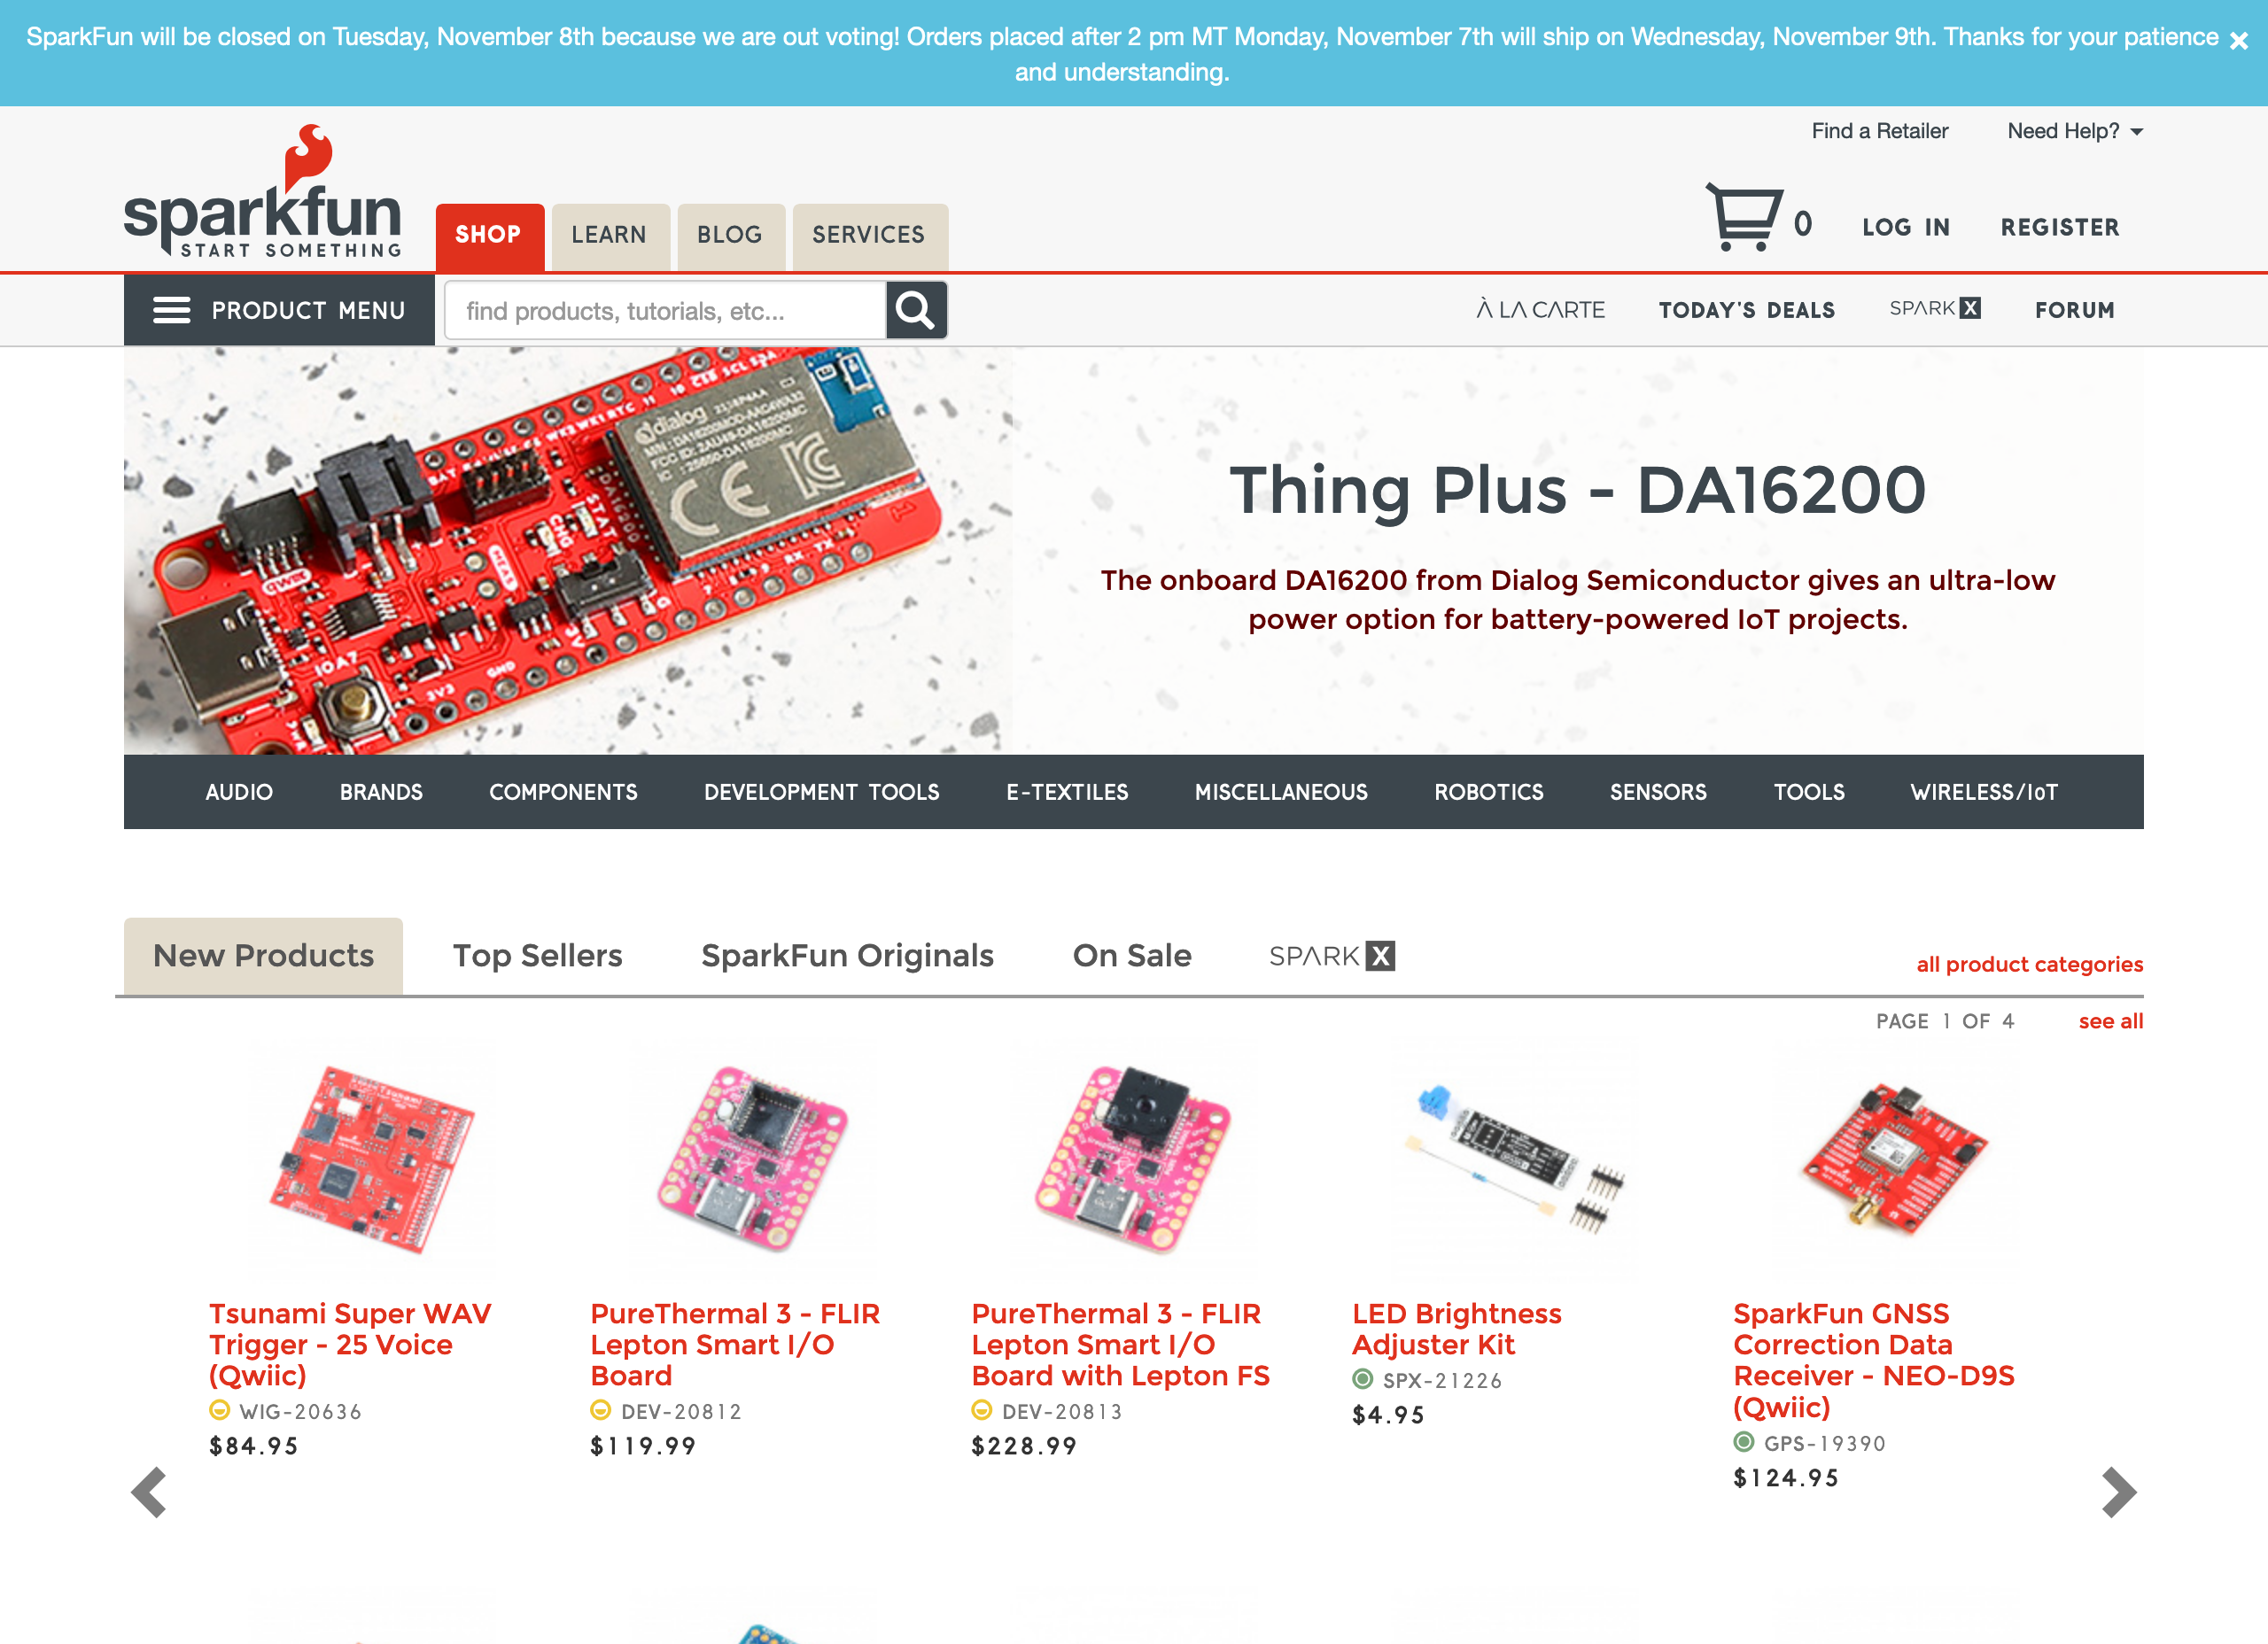Login: (1851, 197, 1970, 252)
